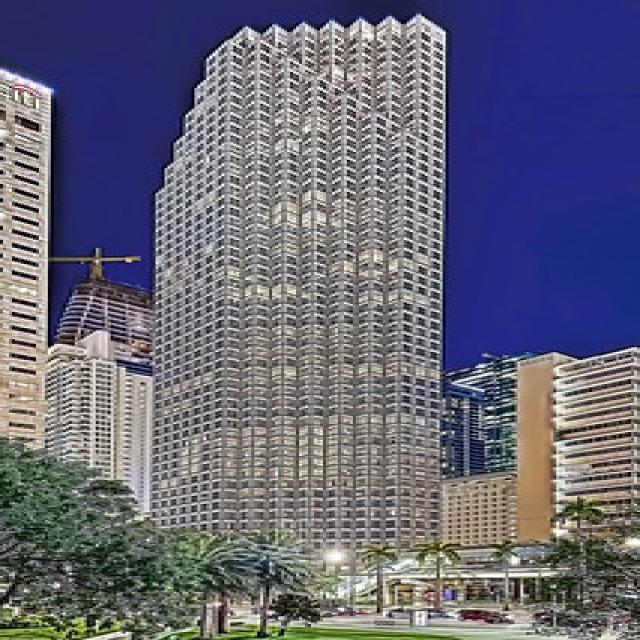Normal_building: (138, 8, 452, 602)
